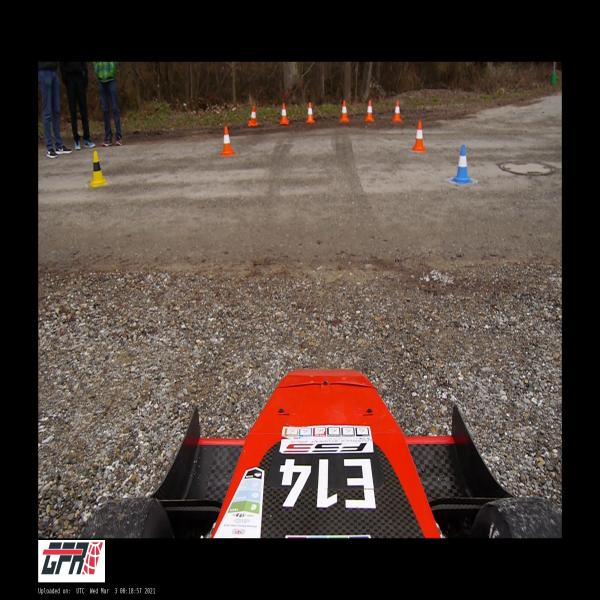blue_cone: (451, 145, 473, 184)
orange_cone: (412, 120, 426, 151), (221, 126, 235, 156), (365, 100, 374, 122), (340, 100, 349, 121), (393, 100, 401, 122), (249, 105, 257, 126), (280, 103, 288, 124), (306, 102, 314, 123)
yellow_cone: (89, 151, 108, 187)
